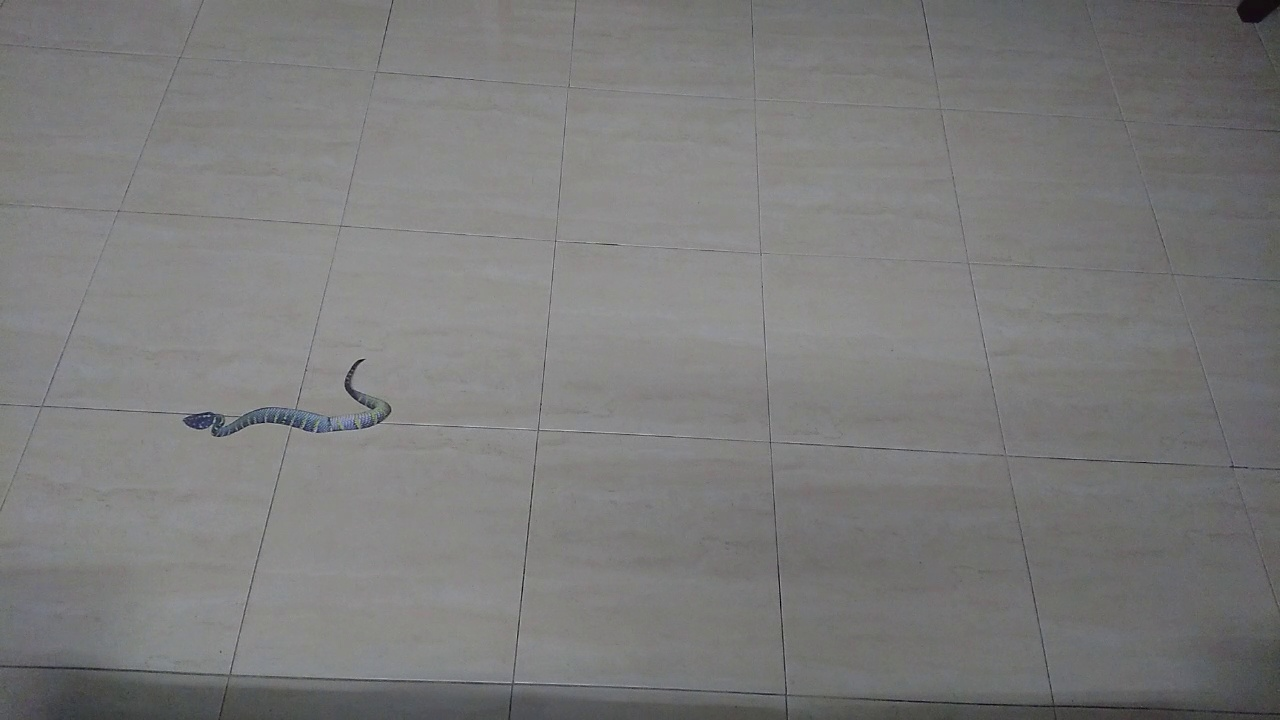snake: (166, 342, 403, 448)
